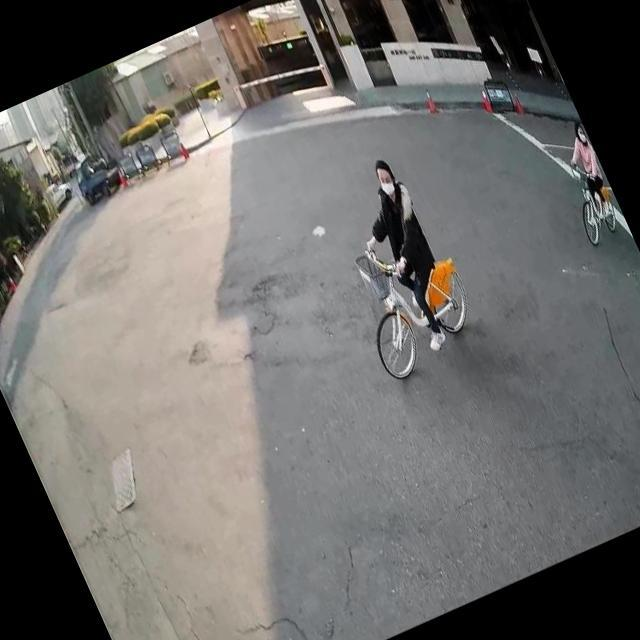person: (328, 147, 474, 363), (554, 113, 622, 224)
